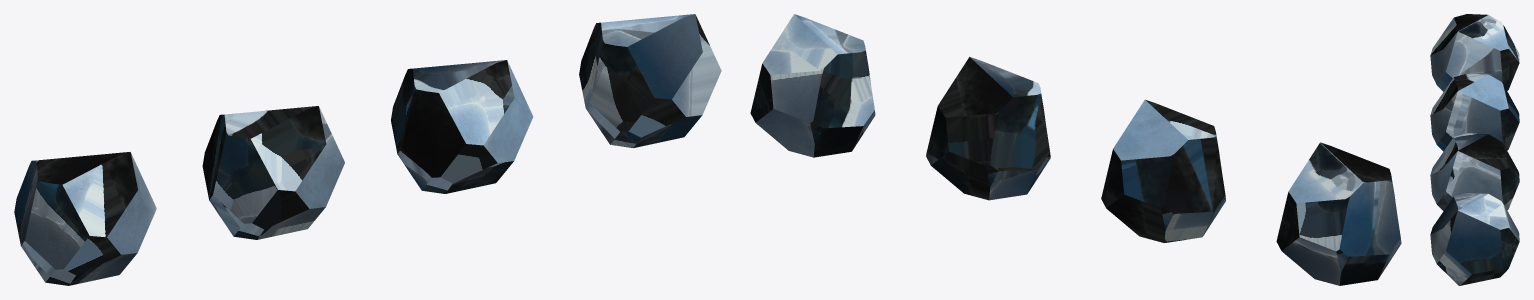
Rendered from Rocks1.fbx.
The picture shows the model from 3 angles, left to right: view 1: azimuth 30°, elevation 25°; view 2: azimuth 150°, elevation 25°; view 3: azimuth 270°, elevation 25°; orthographic projection. The views are drawn at different scales.
Visible parts, largest first — view 1: M_Rock_Green, M_Rock_Blue, M_Rock_Sand, M_Rock_Black; view 2: M_Rock_Blue, M_Rock_Green, M_Rock_Black, M_Rock_Sand; view 3: M_Rock_Green, M_Rock_Black, M_Rock_Sand, M_Rock_Blue.
Part boxes in pixels (x1,y1,x2,y2): M_Rock_Green: (579, 14, 721, 147); M_Rock_Blue: (14, 152, 156, 285); M_Rock_Sand: (202, 106, 344, 239); M_Rock_Black: (391, 60, 533, 193); M_Rock_Blue: (1276, 142, 1401, 285); M_Rock_Green: (750, 14, 875, 157); M_Rock_Black: (926, 57, 1050, 200); M_Rock_Sand: (1101, 99, 1225, 242); M_Rock_Green: (1430, 193, 1519, 285); M_Rock_Black: (1430, 133, 1519, 210); M_Rock_Sand: (1430, 73, 1519, 151); M_Rock_Blue: (1430, 14, 1519, 91).
Size of the model in its own units: 9.12 by 1.56 by 1.6.
